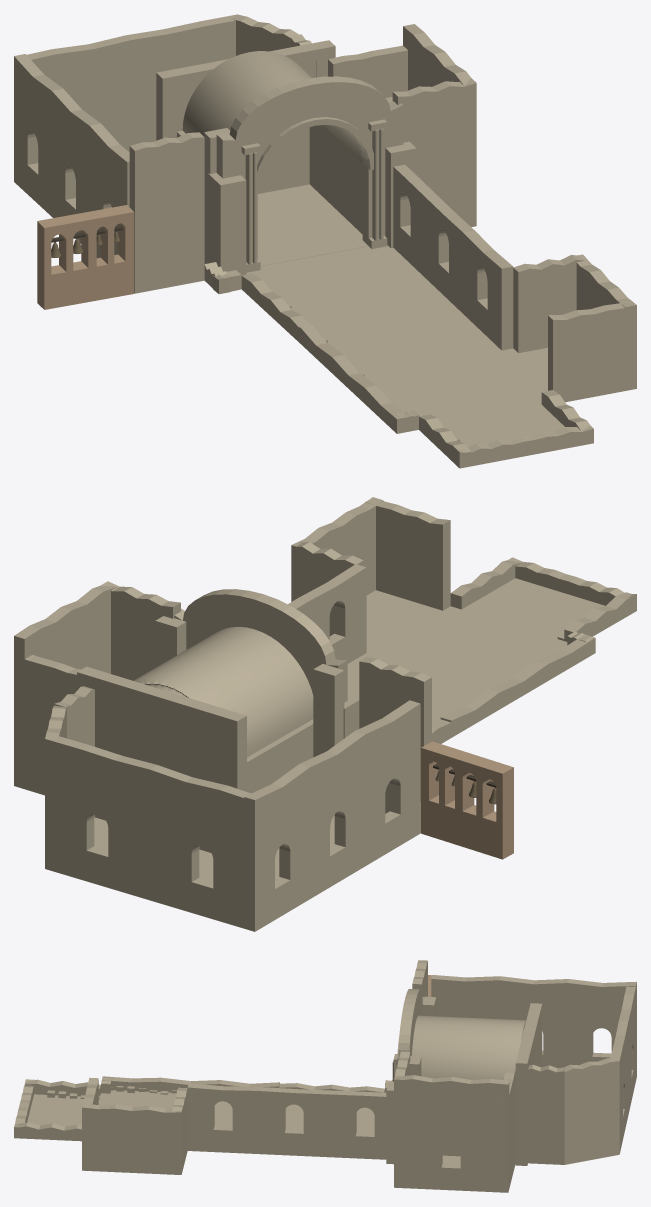
The model's file is mission-san-juan-capistrano-near.glb.
The picture shows the model from 3 angles, top to bottom: view 1: azimuth 30°, elevation 25°; view 2: azimuth 150°, elevation 25°; view 3: azimuth 270°, elevation 25°; orthographic projection. The views are drawn at different scales.
Parts seen in each view (by area): view 1: mission-san-juan-capistrano-0-stone, mission-san-juan-capistrano-0-brick; view 2: mission-san-juan-capistrano-0-stone, mission-san-juan-capistrano-0-brick; view 3: mission-san-juan-capistrano-0-stone.
Part boxes in pixels (box(x1,y1,x2,y2)): mission-san-juan-capistrano-0-stone: box(14, 14, 636, 468); mission-san-juan-capistrano-0-brick: box(37, 205, 134, 309); mission-san-juan-capistrano-0-stone: box(14, 497, 636, 931); mission-san-juan-capistrano-0-brick: box(421, 741, 513, 859); mission-san-juan-capistrano-0-stone: box(14, 960, 636, 1192).
Bounding box in the file's own units: 34.65 × 13.62 × 58.45.
